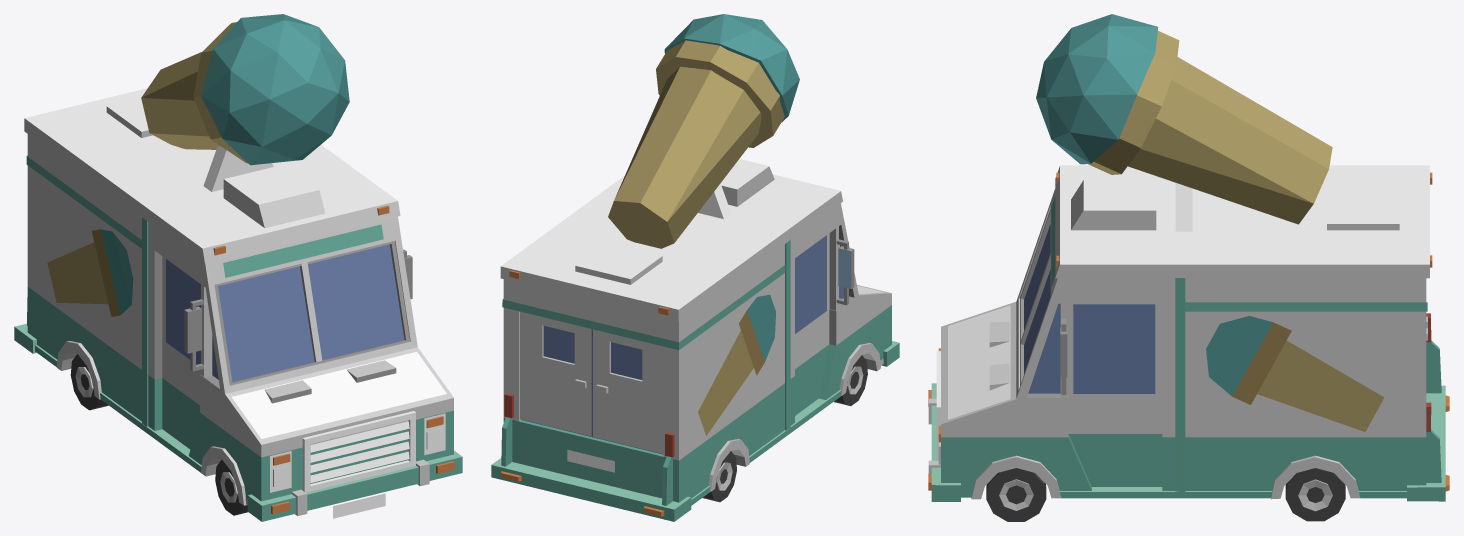
File: transport_bus_005.glb
The picture shows the model from 3 angles, left to right: view 1: azimuth 30°, elevation 25°; view 2: azimuth 150°, elevation 25°; view 3: azimuth 270°, elevation 25°; orthographic projection. The views are drawn at different scales.
Visible parts, largest first — view 1: transport_bus_005; view 2: transport_bus_005; view 3: transport_bus_005.
Boxes of the visible parts, x1,y1,x2,y2 form: transport_bus_005: (14, 14, 462, 521); transport_bus_005: (491, 14, 899, 521); transport_bus_005: (928, 14, 1449, 521).
Size of the model in its own units: 2.02 by 3.74 by 3.9.
1 material, 1 textured.
